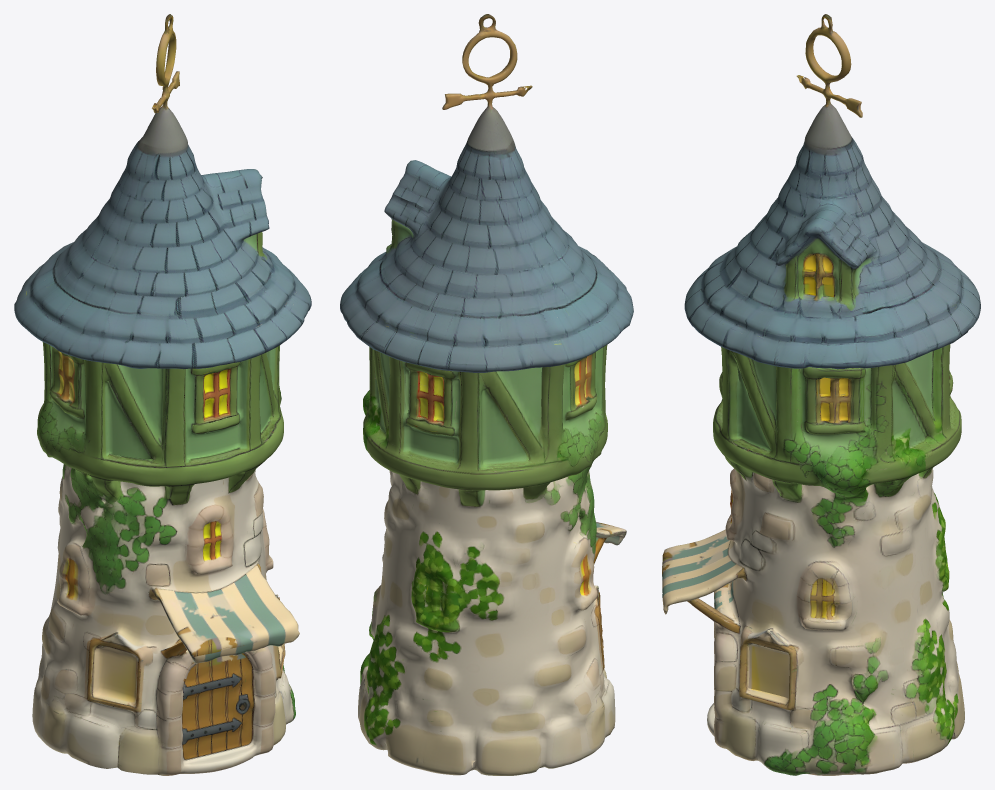
The model's file is building_chartmaker_tower_v1.glb.
3 renders of one model, left to right at view 1: azimuth 30°, elevation 25°; view 2: azimuth 150°, elevation 25°; view 3: azimuth 270°, elevation 25°, orthographic.
Parts seen in each view (by area): view 1: Mesh_0; view 2: Mesh_0; view 3: Mesh_0.
Boxes of the visible parts, box(x1,y1,x2,y2) form: Mesh_0: box(14, 14, 311, 775); Mesh_0: box(340, 14, 633, 775); Mesh_0: box(662, 14, 980, 775).
Bounding box in the file's own units: 0.7137 × 1.9 × 0.7713.
Materials: 1 (1 with a texture image).
